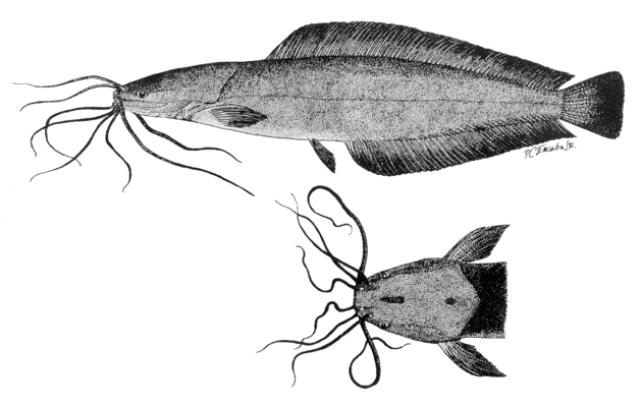Sirip Anal: (342, 108, 582, 182)
Sirip Dada: (195, 88, 279, 144)
Sirip Ekor: (568, 63, 632, 142)
Sirip Perut: (298, 126, 348, 184)
Sirip Punggung: (248, 10, 578, 96)
